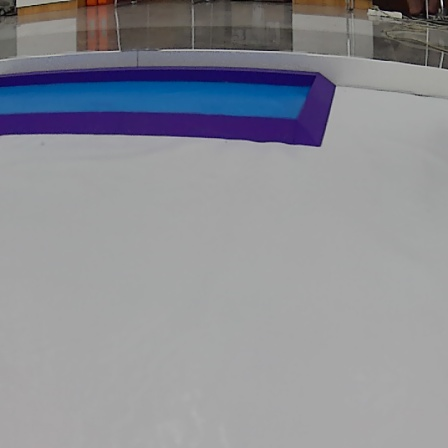blue_aim: (2, 66, 340, 152)
